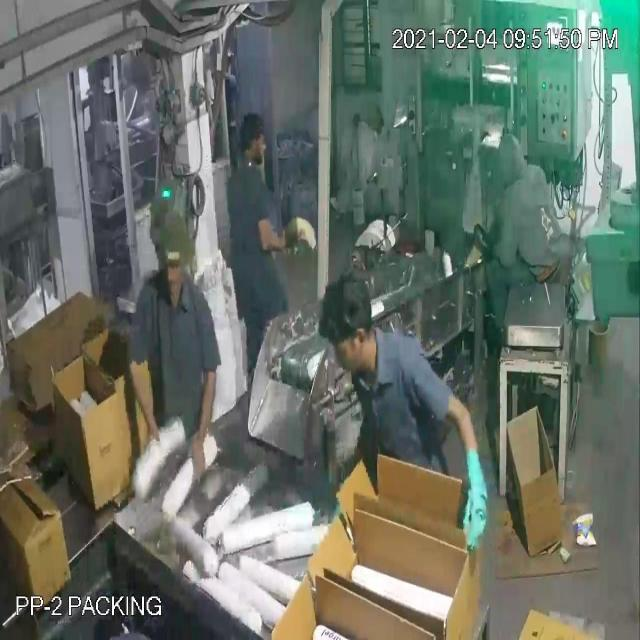No_Gloves: (34, 66, 473, 496)
